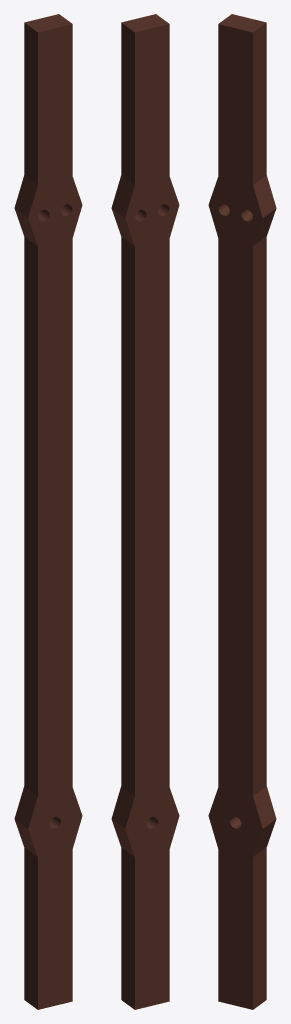
File: staff.fbx
3 renders of one model, left to right at view 1: azimuth 30°, elevation 25°; view 2: azimuth 210°, elevation 25°; view 3: azimuth 330°, elevation 25°, orthographic.
Parts seen in each view (by area): view 1: Staff; view 2: Staff; view 3: Staff.
Boxes of the visible parts, x1,y1,x2,y2 form: Staff: [14, 14, 82, 1009]; Staff: [111, 14, 179, 1009]; Staff: [208, 14, 276, 1009].
Bounding box in the file's own units: 200 × 5.1 × 11.63.
